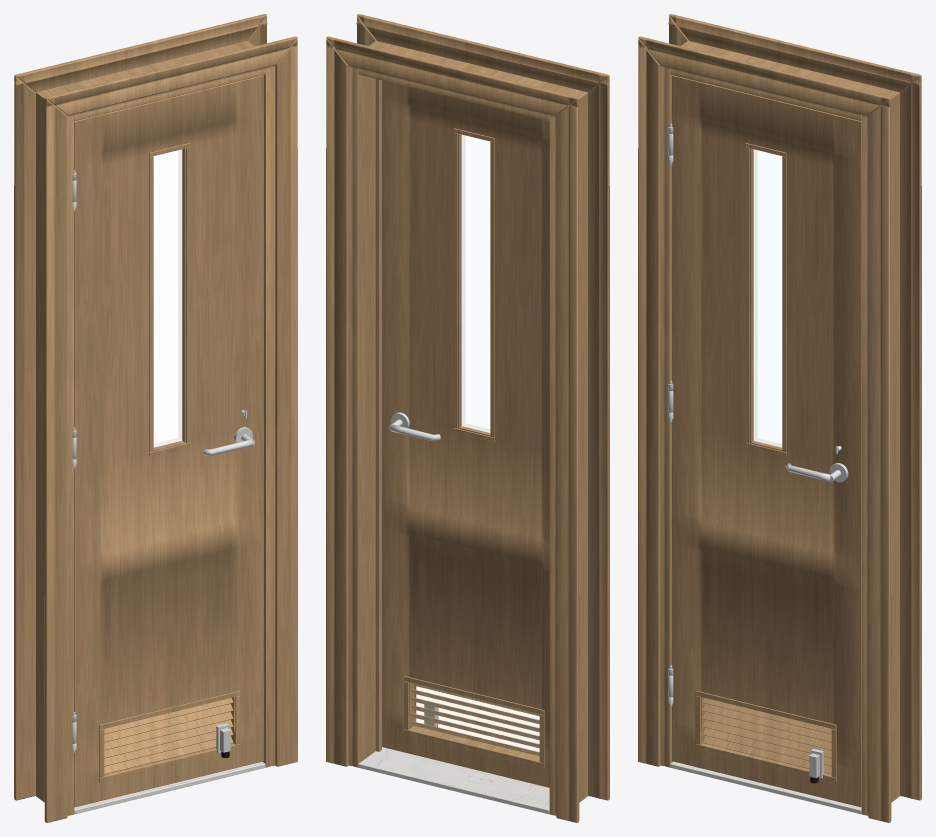
The model's file is mk_door_bath_west_l.glb.
3 renders of one model, left to right at view 1: azimuth 30°, elevation 25°; view 2: azimuth 150°, elevation 25°; view 3: azimuth 330°, elevation 25°, orthographic.
Parts seen in each view (by area): view 1: mk_door_bath_west_l_leaf_body, mk_door_bath_west_l_casing, mk_door_bath_west_l_frame, mk_door_bath_west_l_louver, mk_door_bath_west_l_glass_slit, mk_door_bath_west_l_handle, mk_door_bath_west_l_hinges; view 2: mk_door_bath_west_l_leaf_body, mk_door_bath_west_l_casing, mk_door_bath_west_l_frame, mk_door_bath_west_l_louver, mk_door_bath_west_l_glass_slit, mk_door_bath_west_l_handle; view 3: mk_door_bath_west_l_leaf_body, mk_door_bath_west_l_casing, mk_door_bath_west_l_frame, mk_door_bath_west_l_louver, mk_door_bath_west_l_glass_slit, mk_door_bath_west_l_handle, mk_door_bath_west_l_hinges.
Part boxes in pixels (bbox=[...]): mk_door_bath_west_l_leaf_body: bbox=[74, 75, 263, 807]; mk_door_bath_west_l_casing: bbox=[14, 14, 297, 822]; mk_door_bath_west_l_frame: bbox=[36, 40, 275, 815]; mk_door_bath_west_l_louver: bbox=[99, 143, 240, 782]; mk_door_bath_west_l_glass_slit: bbox=[153, 149, 182, 447]; mk_door_bath_west_l_handle: bbox=[203, 410, 255, 757]; mk_door_bath_west_l_hinges: bbox=[72, 170, 76, 752]; mk_door_bath_west_l_leaf_body: bbox=[382, 80, 549, 787]; mk_door_bath_west_l_casing: bbox=[326, 14, 609, 822]; mk_door_bath_west_l_frame: bbox=[348, 40, 587, 815]; mk_door_bath_west_l_louver: bbox=[403, 128, 544, 767]; mk_door_bath_west_l_glass_slit: bbox=[461, 134, 490, 432]; mk_door_bath_west_l_handle: bbox=[388, 412, 440, 727]; mk_door_bath_west_l_leaf_body: bbox=[672, 75, 861, 807]; mk_door_bath_west_l_casing: bbox=[638, 14, 921, 822]; mk_door_bath_west_l_frame: bbox=[660, 40, 899, 815]; mk_door_bath_west_l_louver: bbox=[695, 143, 836, 782]; mk_door_bath_west_l_glass_slit: bbox=[753, 149, 782, 447]; mk_door_bath_west_l_handle: bbox=[785, 446, 848, 783]; mk_door_bath_west_l_hinges: bbox=[668, 123, 673, 706].
Bounding box in the file's own units: 0.7669 × 2.11 × 0.2148.
Materials: 5 (2 with a texture image).
